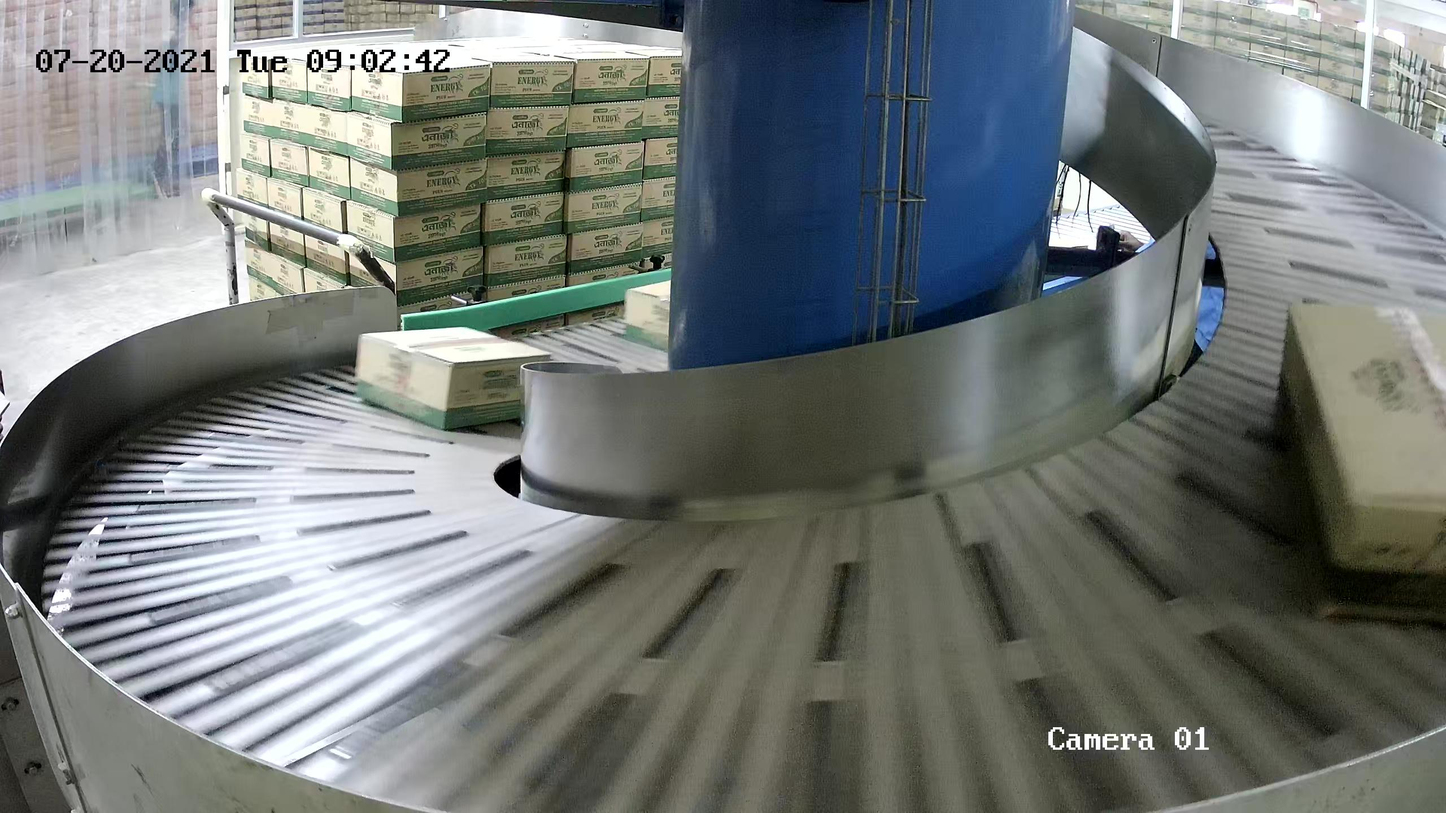Box: (1275, 298, 1446, 626), (354, 324, 553, 431), (623, 277, 671, 353)
